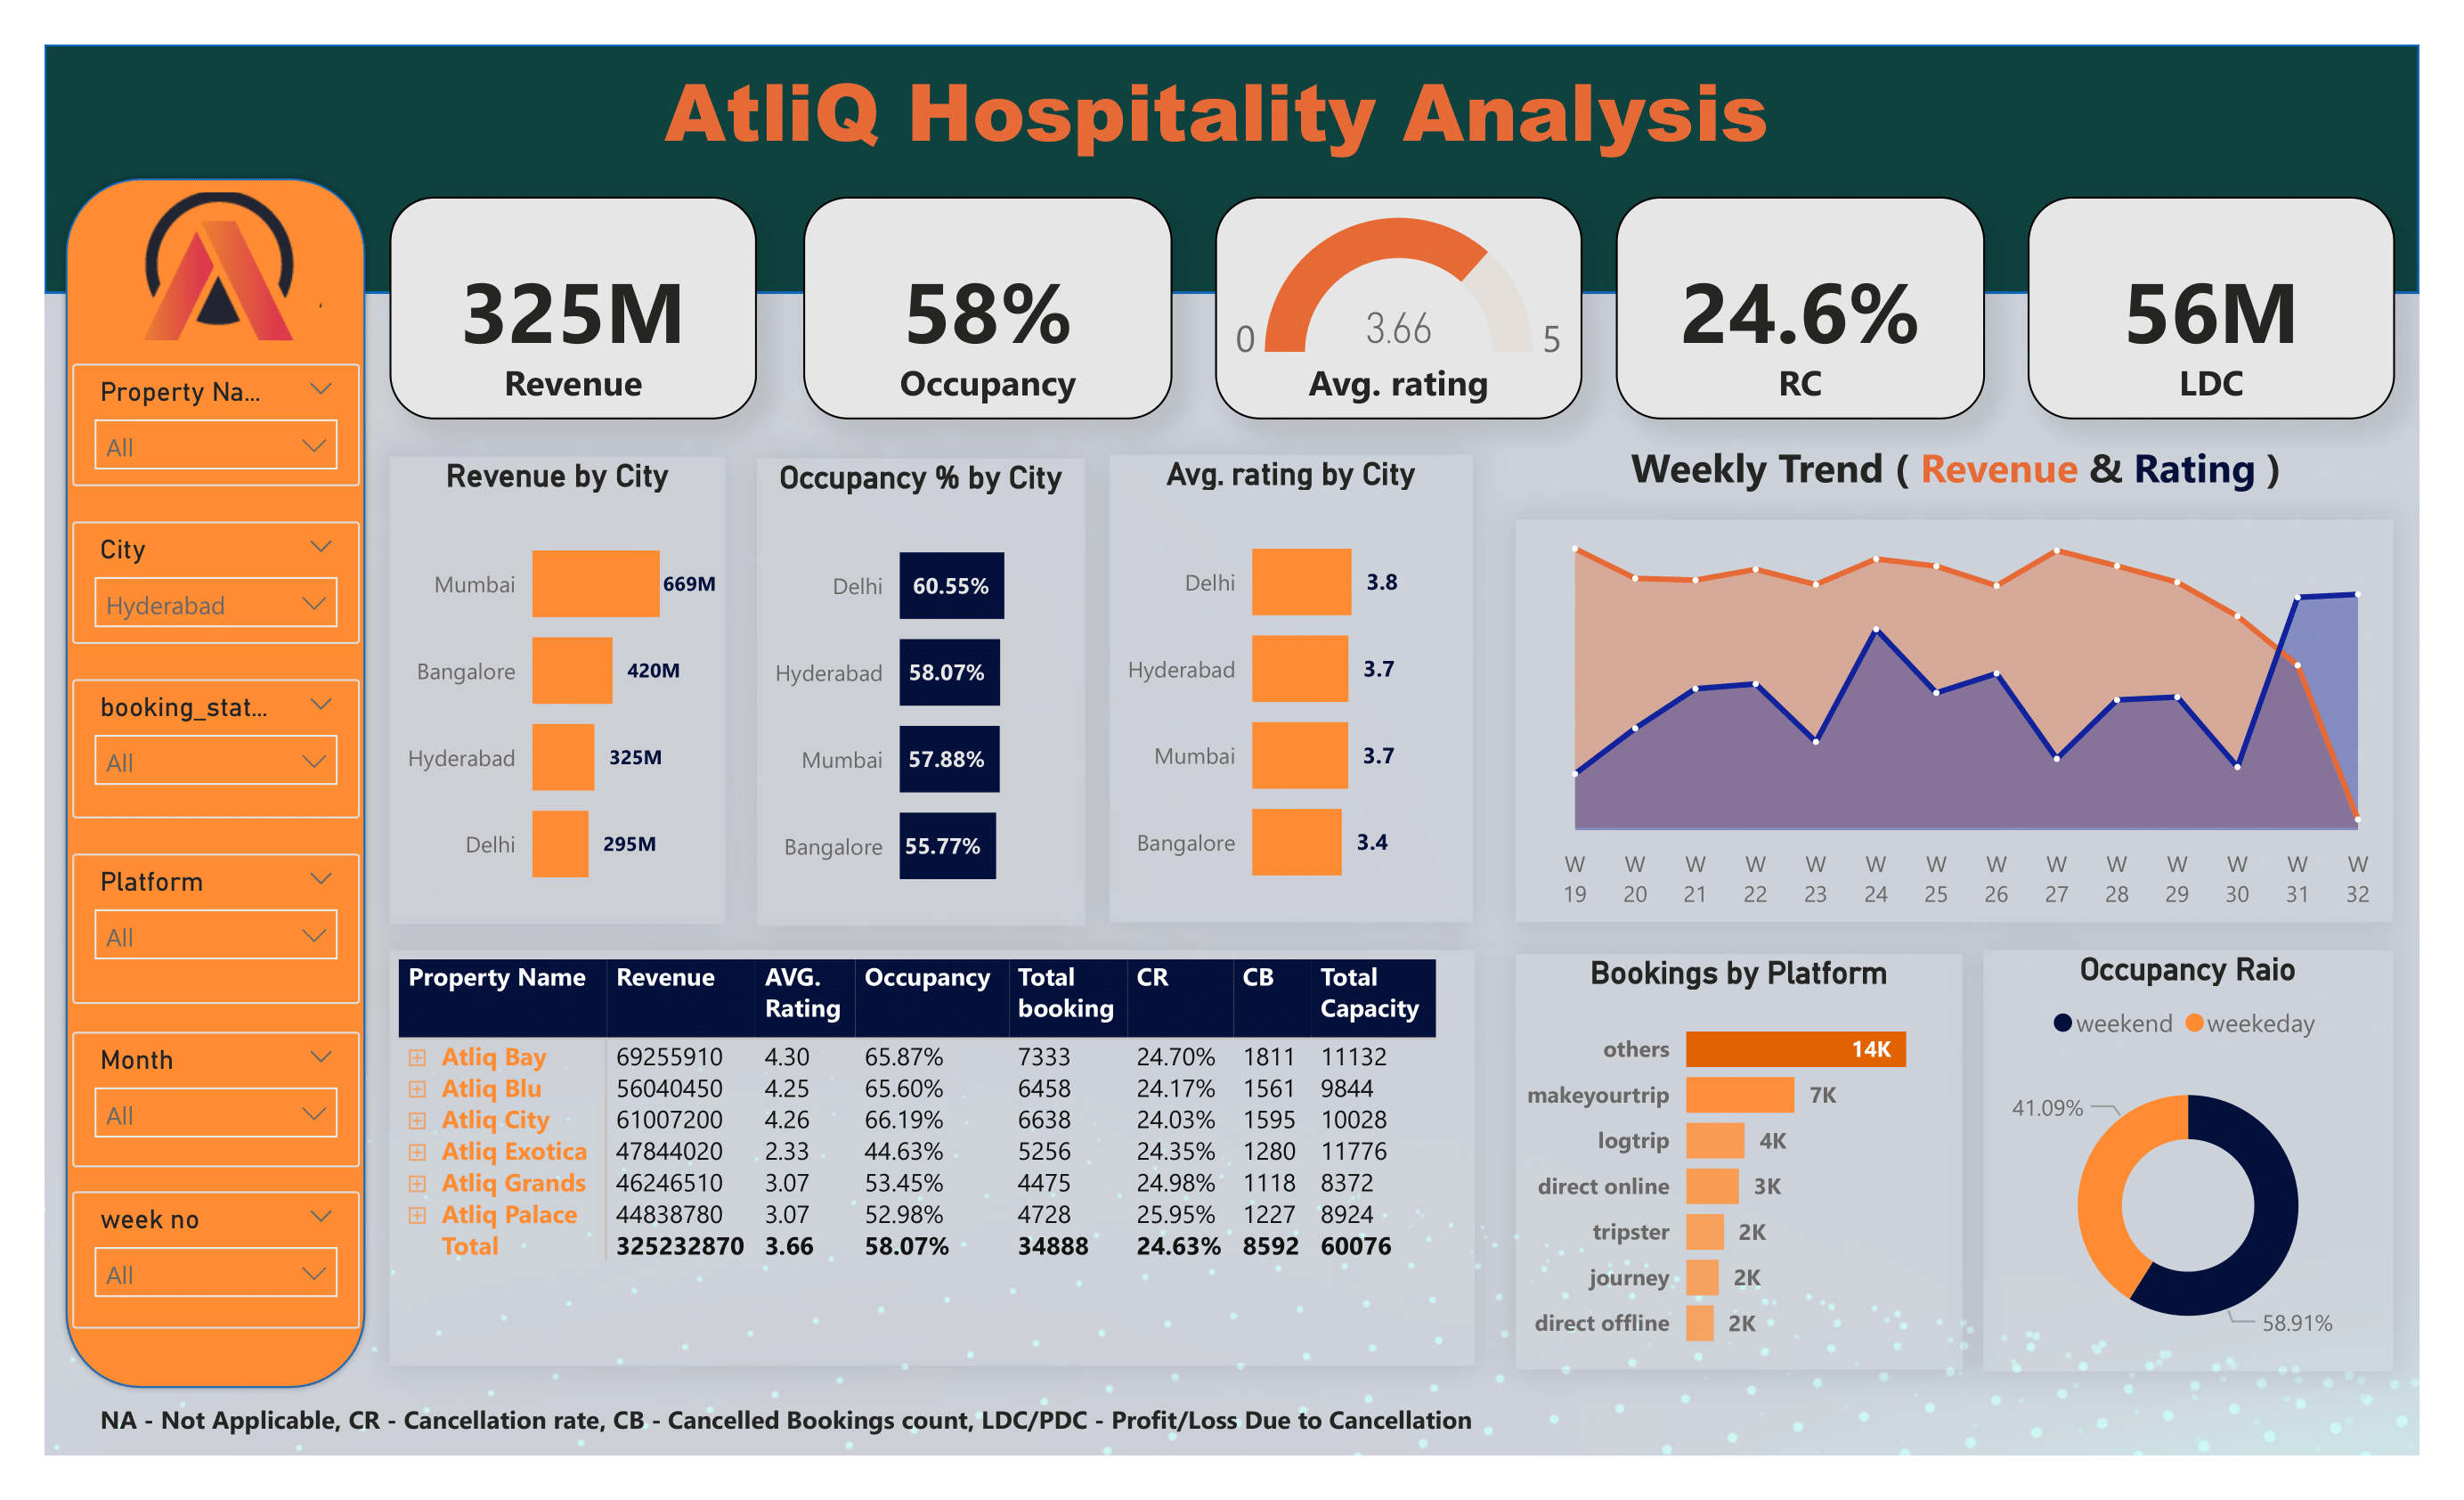

The dashboard page shown, as its layout file describes it:
{"tool":"powerbi","page":{"name":"Overall","canvas":[1280,760],"ordinal":0},"visuals":[{"type":"shape","box":[0,0,1280,134.4],"z":0},{"type":"textbox","box":[0,0,1278.1,75.7],"z":0,"group":"g1"},{"type":"group","id":"g1","title":"visuals","box":[0,0,1278.1,727],"z":1000},{"type":"textbox","box":[802.3,207.8,456.5,48.5],"z":2000},{"type":"textbox","box":[24.7,727,1063.3,33],"z":3000},{"type":"card","fields":{"Values":["Key Measure.Revenue"]},"box":[185.9,82.2,198.4,119.8],"z":5000},{"type":"clusteredBarChart","title":"Revenue by City","fields":{"Category":["dim_hotels.city"],"Y":["Key Measure.Revenue"]},"box":[185.9,222.1,181,251.7],"z":5000,"group":"g1"},{"type":"card","fields":{"Values":["Key Measure.Occupancy"]},"box":[409.4,82.2,198.4,119.8],"z":6000},{"type":"gauge","fields":{"MaxValue":["Key Measure.max rating"],"MinValue":["Key Measure.min rating"],"Y":["Key Measure.AVG. Rating"]},"box":[631.1,82.2,198.4,119.8],"z":7000},{"type":"clusteredBarChart","title":"Occupancy % by City","fields":{"Category":["dim_hotels.city"],"Y":["Key Measure.Occupancy"]},"box":[384.1,222.6,176.4,252.2],"z":7000,"group":"g1"},{"type":"card","fields":{"Values":["Key Measure.LDC"]},"box":[1069.1,82.2,198.4,119.8],"z":8000},{"type":"card","fields":{"Values":["Key Measure.CR"]},"box":[847.4,82.2,198.4,119.8],"z":9000},{"type":"clusteredBarChart","title":"Avg. rating by City","fields":{"Category":["dim_hotels.city"],"Y":["Key Measure.AVG. Rating"]},"box":[573.7,220.9,196.2,252.2],"z":9000,"group":"g1"},{"type":"textbox","box":[185.9,164.5,198.4,37.5],"z":10000},{"type":"donutChart","title":"Occupancy Raio","fields":{"Category":["dim_date.day_type"],"Y":["Key Measure.Occupancy"]},"box":[1045.2,488,220.9,227.5],"z":10000,"group":"g1"},{"type":"textbox","box":[409.4,164.5,198.4,37.5],"z":11000},{"type":"areaChart","title":"Weekly Trend (Revenue & Rating)","fields":{"Category":["dim_date.week no"],"Y":["Key Measure.Revenue"],"Y2":["Key Measure.AVG. Rating"]},"box":[793.2,256.3,473.2,216.9],"z":11000,"group":"g1"},{"type":"textbox","box":[631.1,164.5,198.4,37.5],"z":12000},{"type":"clusteredBarChart","title":"Bookings by Platform","fields":{"Category":["fact_bookings.booking_platform"],"Y":["Key Measure.Total booking"]},"box":[793,489.6,240.7,224.2],"z":12000,"group":"g1"},{"type":"textbox","box":[847.4,164.5,198.4,37.5],"z":13000},{"type":"pivotTable","fields":{"Rows":["dim_hotels.property_name","dim_hotels.city"],"Values":["Key Measure.Revenue","Key Measure.AVG. Rating","Key Measure.Occupancy","Key Measure.Total booking","Key Measure.CR","Key Measure.Total cancelled bookings","Key Measure.Total Capacity"]},"box":[185.9,488,584.6,223.5],"z":13000,"group":"g1"},{"type":"shape","box":[8.2,69.2,168.2,657.8],"z":14000,"group":"g1"},{"type":"textbox","box":[1069.1,164.5,198.4,37.5],"z":14000},{"type":"slicer","fields":{"Values":["dim_date.week no"]},"box":[14.8,618.2,155,74.2],"z":15000,"group":"g1"},{"type":"slicer","fields":{"Values":["dim_date.mmm yy.Variation.Date Hierarchy.Month"]},"box":[14.8,532.5,155,72.5],"z":16000,"group":"g1"},{"type":"slicer","fields":{"Values":["fact_bookings.booking_platform"]},"box":[15.1,435.8,155.3,81.4],"z":17000,"group":"g1"},{"type":"slicer","fields":{"Values":["fact_bookings.booking_status"]},"box":[15.1,341.5,155.3,75.7],"z":18000,"group":"g1"},{"type":"slicer","fields":{"Values":["dim_hotels.city"]},"box":[15.1,256.7,155.3,66.3],"z":19000,"group":"g1"},{"type":"slicer","fields":{"Values":["dim_hotels.property_name"]},"box":[15.1,171.9,155.3,66.3],"z":20000,"group":"g1"},{"type":"image","title":"atliq","box":[15.1,90.4,77.6,73.8],"z":25000,"group":"g1"},{"type":"image","title":"codebasics","box":[85.2,90.4,85.2,77.6],"z":26000,"group":"g1"}]}

Visuals, with their boxes on the page's 1280x760 design canvas (x1, y1, x2, y2). These are canvas units, not pixel positions in the 2464x1500 screenshot, which may show the page scaled, cropped or inside an application window:
shape: {"x1": 0, "y1": 0, "x2": 1280, "y2": 134}
textbox: {"x1": 0, "y1": 0, "x2": 1278, "y2": 76}
"visuals" group: {"x1": 0, "y1": 0, "x2": 1278, "y2": 727}
textbox: {"x1": 802, "y1": 208, "x2": 1259, "y2": 256}
textbox: {"x1": 25, "y1": 727, "x2": 1088, "y2": 760}
card - Key Measure.Revenue: {"x1": 186, "y1": 82, "x2": 384, "y2": 202}
"Revenue by City" clusteredBarChart: {"x1": 186, "y1": 222, "x2": 367, "y2": 474}
card - Key Measure.Occupancy: {"x1": 409, "y1": 82, "x2": 608, "y2": 202}
gauge - Key Measure.max rating x Key Measure.min rating: {"x1": 631, "y1": 82, "x2": 830, "y2": 202}
"Occupancy % by City" clusteredBarChart: {"x1": 384, "y1": 223, "x2": 560, "y2": 475}
card - Key Measure.LDC: {"x1": 1069, "y1": 82, "x2": 1268, "y2": 202}
card - Key Measure.CR: {"x1": 847, "y1": 82, "x2": 1046, "y2": 202}
"Avg. rating by City" clusteredBarChart: {"x1": 574, "y1": 221, "x2": 770, "y2": 473}
textbox: {"x1": 186, "y1": 164, "x2": 384, "y2": 202}
"Occupancy Raio" donutChart: {"x1": 1045, "y1": 488, "x2": 1266, "y2": 716}
textbox: {"x1": 409, "y1": 164, "x2": 608, "y2": 202}
"Weekly Trend (Revenue & Rating)" areaChart: {"x1": 793, "y1": 256, "x2": 1266, "y2": 473}
textbox: {"x1": 631, "y1": 164, "x2": 830, "y2": 202}
"Bookings by Platform" clusteredBarChart: {"x1": 793, "y1": 490, "x2": 1034, "y2": 714}
textbox: {"x1": 847, "y1": 164, "x2": 1046, "y2": 202}
pivotTable - dim_hotels.property_name x dim_hotels.city: {"x1": 186, "y1": 488, "x2": 770, "y2": 712}
shape: {"x1": 8, "y1": 69, "x2": 176, "y2": 727}
textbox: {"x1": 1069, "y1": 164, "x2": 1268, "y2": 202}
slicer - dim_date.week no: {"x1": 15, "y1": 618, "x2": 170, "y2": 692}
slicer - dim_date.mmm yy.Variation.Date Hierarchy.Month: {"x1": 15, "y1": 532, "x2": 170, "y2": 605}
slicer - fact_bookings.booking_platform: {"x1": 15, "y1": 436, "x2": 170, "y2": 517}
slicer - fact_bookings.booking_status: {"x1": 15, "y1": 342, "x2": 170, "y2": 417}
slicer - dim_hotels.city: {"x1": 15, "y1": 257, "x2": 170, "y2": 323}
slicer - dim_hotels.property_name: {"x1": 15, "y1": 172, "x2": 170, "y2": 238}
"atliq" image: {"x1": 15, "y1": 90, "x2": 93, "y2": 164}
"codebasics" image: {"x1": 85, "y1": 90, "x2": 170, "y2": 168}
